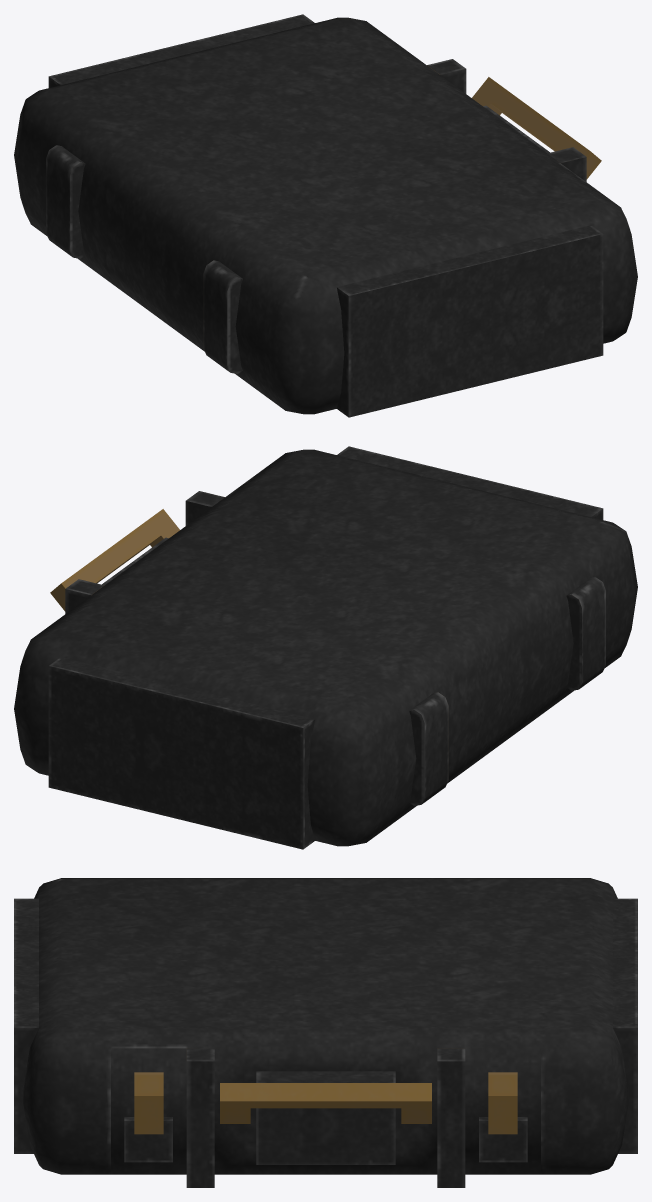
The model's file is CR_Tools_box.fbx.
The picture shows the model from 3 angles, top to bottom: view 1: azimuth 30°, elevation 25°; view 2: azimuth 150°, elevation 25°; view 3: azimuth 270°, elevation 25°; orthographic projection. The views are drawn at different scales.
Parts seen in each view (by area): view 1: Tools_box; view 2: Tools_box; view 3: Tools_box.
Part boxes in pixels (box(x1,y1,x2,y2)): Tools_box: box(14, 14, 637, 417); Tools_box: box(14, 446, 637, 849); Tools_box: box(14, 878, 637, 1187).
Bounding box in the file's own units: 37.78 × 12 × 47.42.
